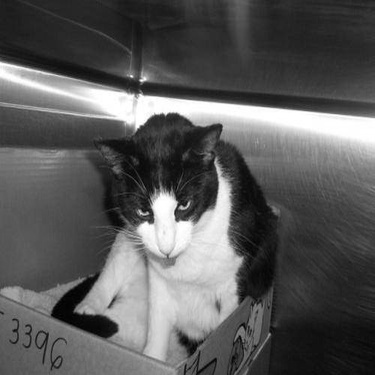cat: (32, 91, 296, 371)
